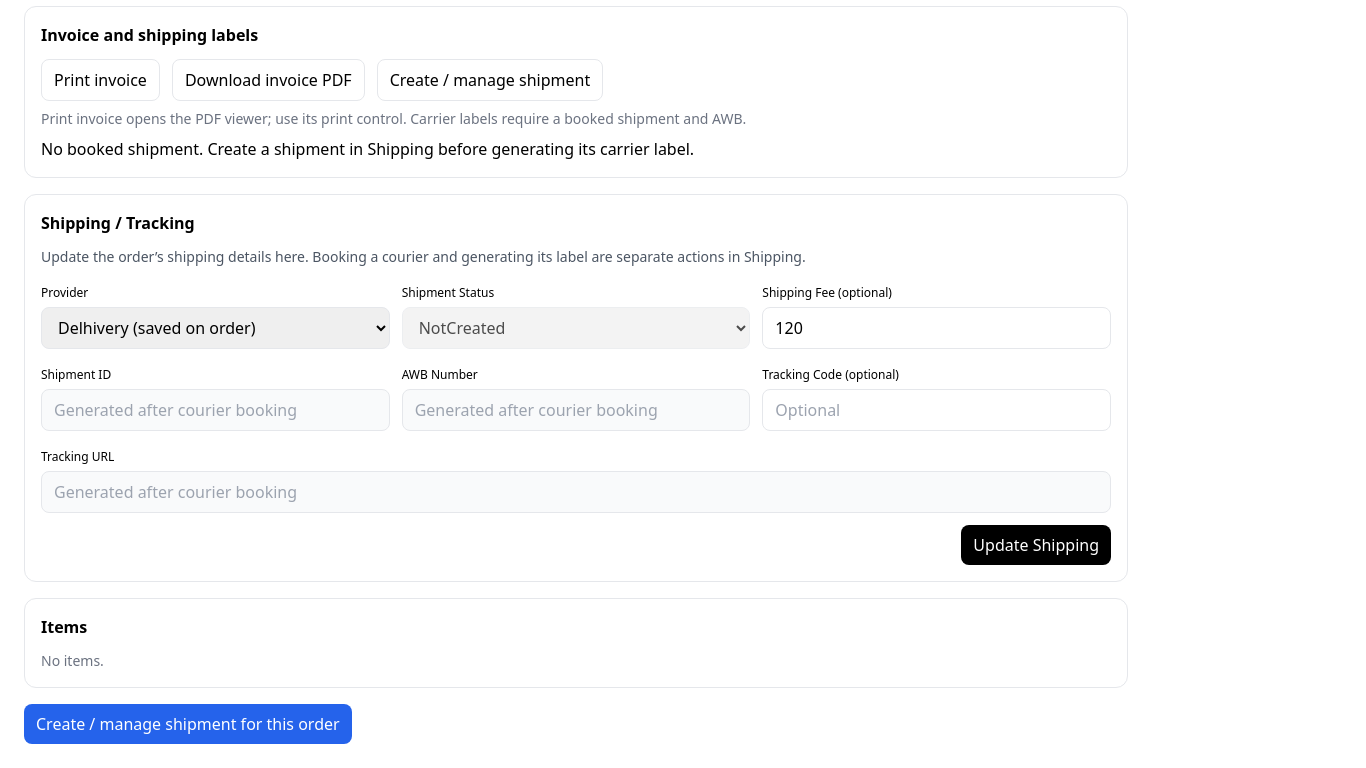
shows shipping save errors next to the shipping action
(page scrolled)
Click the button "Update Shipping" at [1036, 545], box [961,525,1111,565]
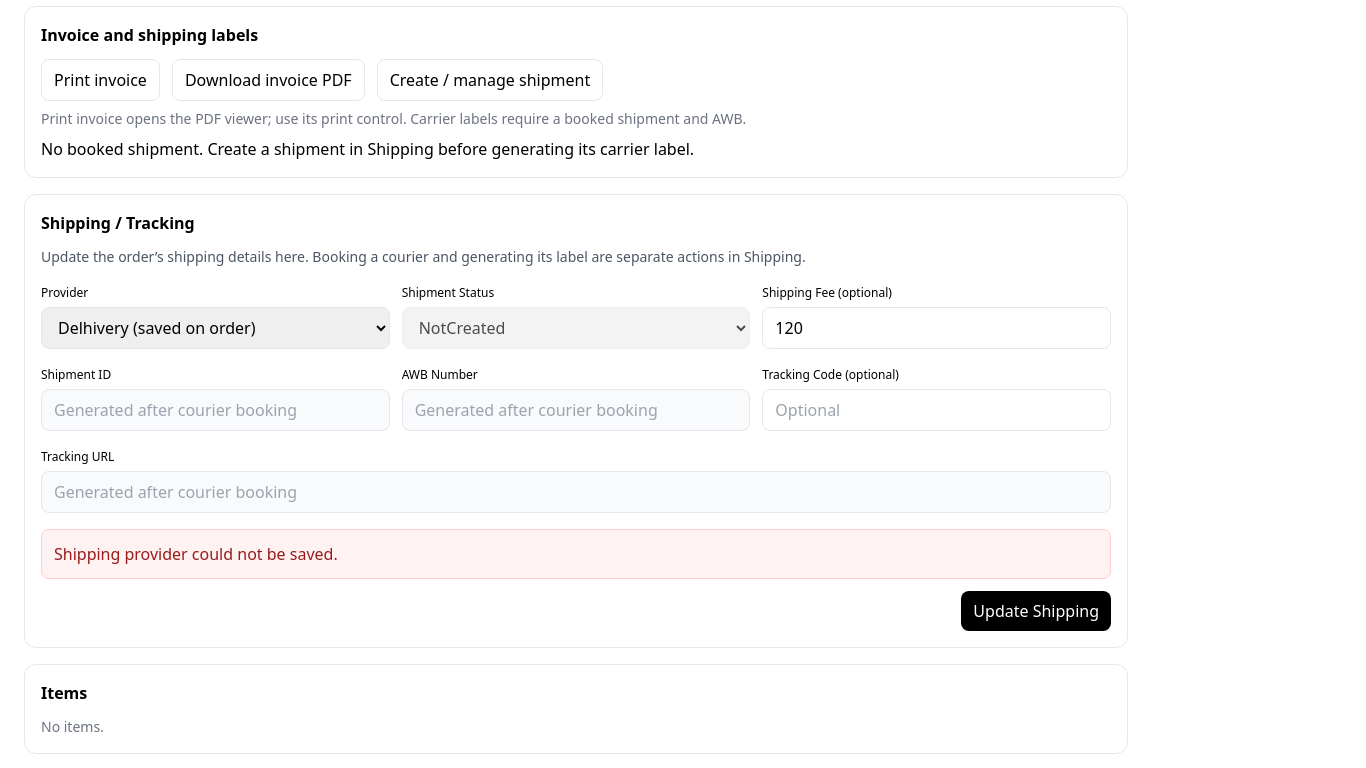
Now the message reads "Shipping provider could not be saved.", box [54,543,338,565]
